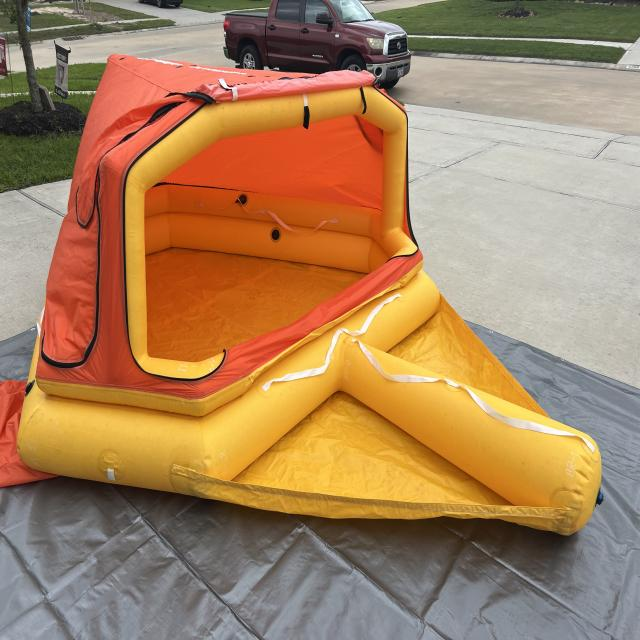Multi-person_life_raft: (0, 54, 600, 536)
